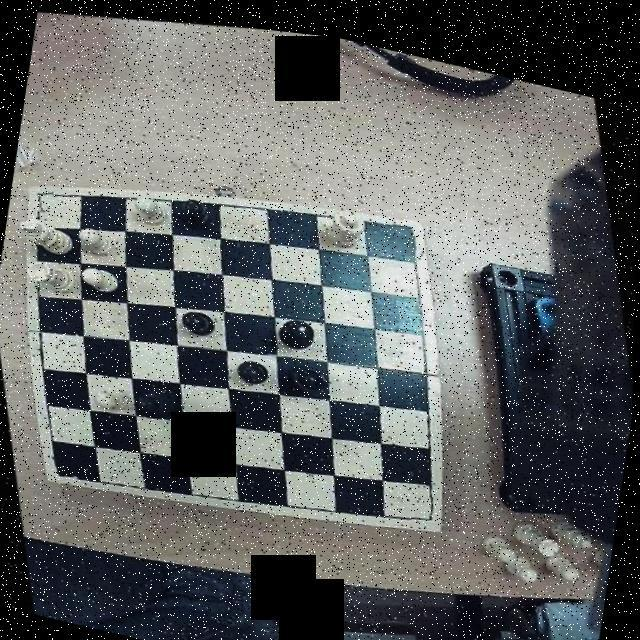chess-table-corners: (405, 481, 446, 522), (44, 449, 84, 488), (386, 206, 425, 246), (24, 180, 62, 215)
